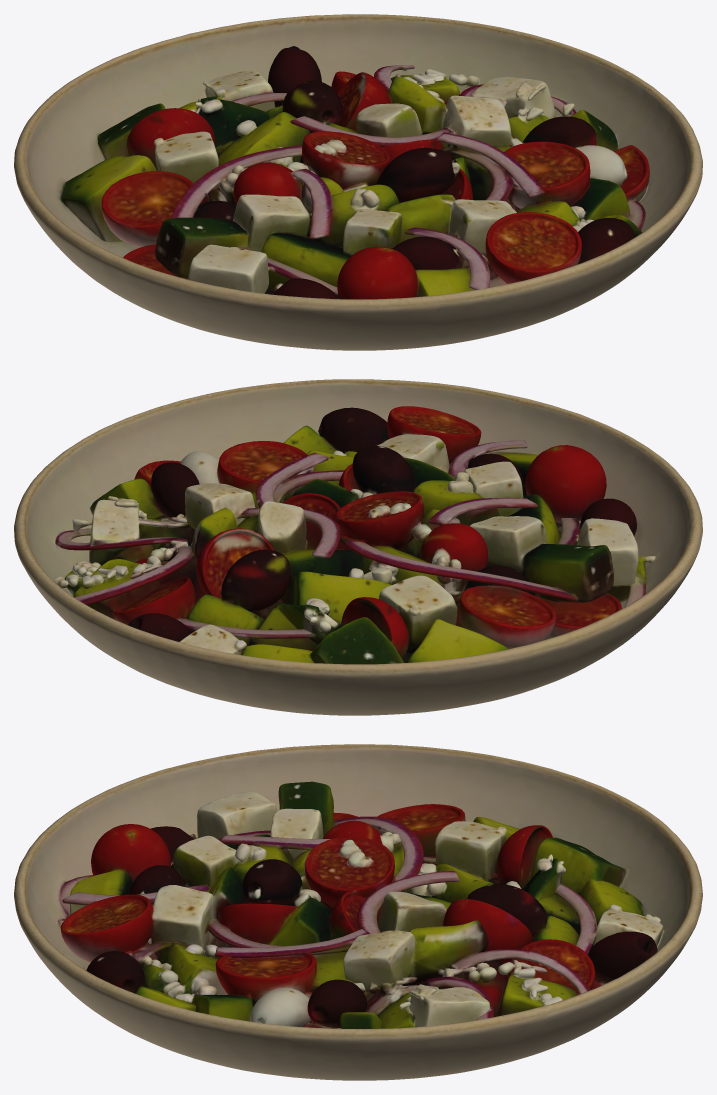
The picture shows the model from 3 angles, top to bottom: view 1: azimuth 30°, elevation 25°; view 2: azimuth 150°, elevation 25°; view 3: azimuth 270°, elevation 25°; orthographic projection.
Parts seen in each view (by area): view 1: tripo_node_33bb0819-08c1-4dca-892f-ea6a61a26ef3; view 2: tripo_node_33bb0819-08c1-4dca-892f-ea6a61a26ef3; view 3: tripo_node_33bb0819-08c1-4dca-892f-ea6a61a26ef3.
Part boxes in pixels (x1,y1,x2,y2): tripo_node_33bb0819-08c1-4dca-892f-ea6a61a26ef3: [14, 14, 702, 350]; tripo_node_33bb0819-08c1-4dca-892f-ea6a61a26ef3: [14, 379, 702, 715]; tripo_node_33bb0819-08c1-4dca-892f-ea6a61a26ef3: [14, 744, 702, 1080].
Size of the model in its own units: 0.9777 by 0.1882 by 0.9788.
1 material, 1 textured.
